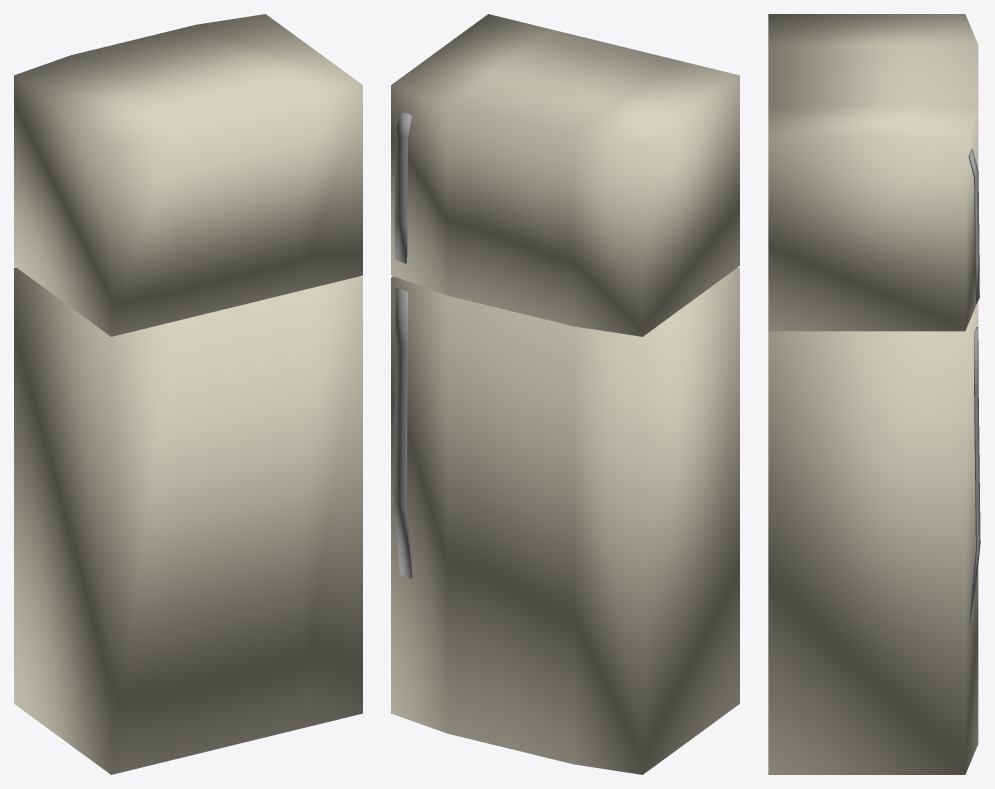
The model's file is geladeira_TEXTURIZADA.fbx.
3 renders of one model, left to right at view 1: azimuth 30°, elevation 25°; view 2: azimuth 150°, elevation 25°; view 3: azimuth 270°, elevation 25°, orthographic.
Visible parts, largest first — view 1: geladeira; view 2: geladeira; view 3: geladeira.
Part boxes in pixels (x1,y1,x2,y2): geladeira: (14, 14, 362, 774); geladeira: (391, 14, 739, 774); geladeira: (768, 14, 980, 774).
Size of the model in its own units: 99.12 by 237 by 71.41.
